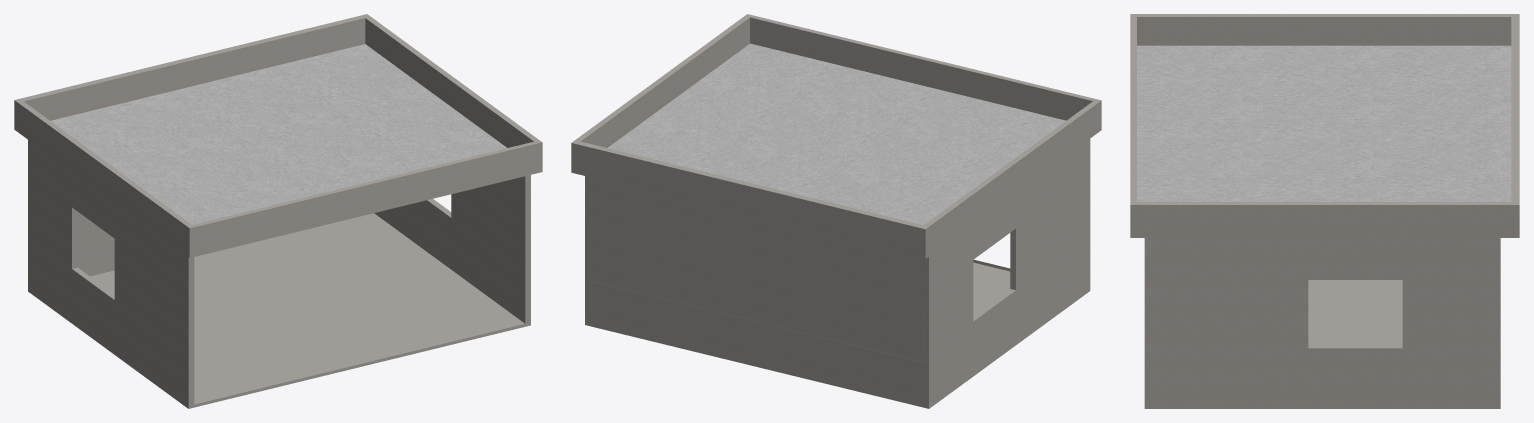
The model's file is Room.fbx.
The picture shows the model from 3 angles, left to right: view 1: azimuth 30°, elevation 25°; view 2: azimuth 150°, elevation 25°; view 3: azimuth 270°, elevation 25°; orthographic projection. The views are drawn at different scales.
Visible parts, largest first — view 1: Room; view 2: Room; view 3: Room.
Boxes of the visible parts, x1=… form: Room: x1=14, y1=14, x2=542, y2=408; Room: x1=571, y1=14, x2=1101, y2=408; Room: x1=1130, y1=14, x2=1519, y2=408.
Bounding box in the file's own units: 1948 × 984 × 1677.
